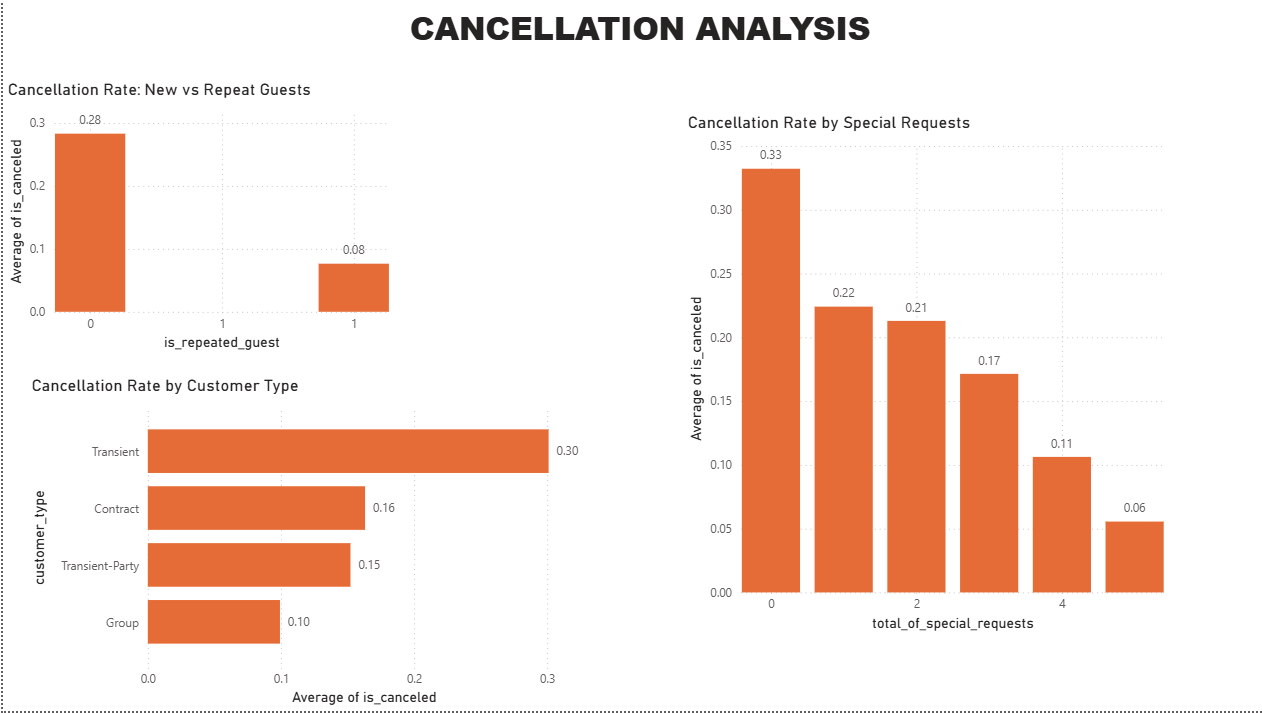

This screenshot's page, from the dashboard's own definition file:
{"tool":"powerbi","page":{"name":"Cancellation Analysis","canvas":[1280,720],"ordinal":1},"visuals":[{"type":"clusteredColumnChart","title":"Cancellation Rate: New vs Repeat Guests","fields":{"Category":["hotel_bookings_cleaned.is_repeated_guest"],"Y":["Avg(hotel_bookings_cleaned.is_canceled)"]},"box":[0,80,396,280],"z":0},{"type":"clusteredColumnChart","title":"Cancellation Rate by Special Requests","fields":{"Category":["hotel_bookings_cleaned.total_of_special_requests"],"Y":["Avg(hotel_bookings_cleaned.is_canceled)"]},"box":[688,114,492,530],"z":1},{"type":"clusteredBarChart","title":"Cancellation Rate by Customer Type","fields":{"Category":["hotel_bookings_cleaned.customer_type"],"Y":["Avg(hotel_bookings_cleaned.is_canceled)"]},"box":[24,380,574,340],"z":2},{"type":"textbox","box":[24,0,560,80],"z":3}]}

Visuals, with their boxes in screenshot pixels (x1, y1, x2, y2), scaled from the page's 1280x720 canvas onto the 1262x713 screenshot:
"Cancellation Rate: New vs Repeat Guests" clusteredColumnChart: {"left": 0, "top": 79, "right": 390, "bottom": 356}
"Cancellation Rate by Special Requests" clusteredColumnChart: {"left": 678, "top": 113, "right": 1163, "bottom": 638}
"Cancellation Rate by Customer Type" clusteredBarChart: {"left": 24, "top": 376, "right": 590, "bottom": 712}
textbox: {"left": 24, "top": 0, "right": 576, "bottom": 79}
